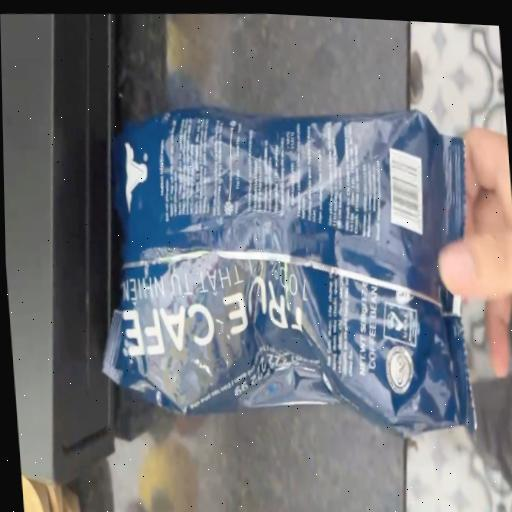cafe_hat: (104, 107, 474, 433)
